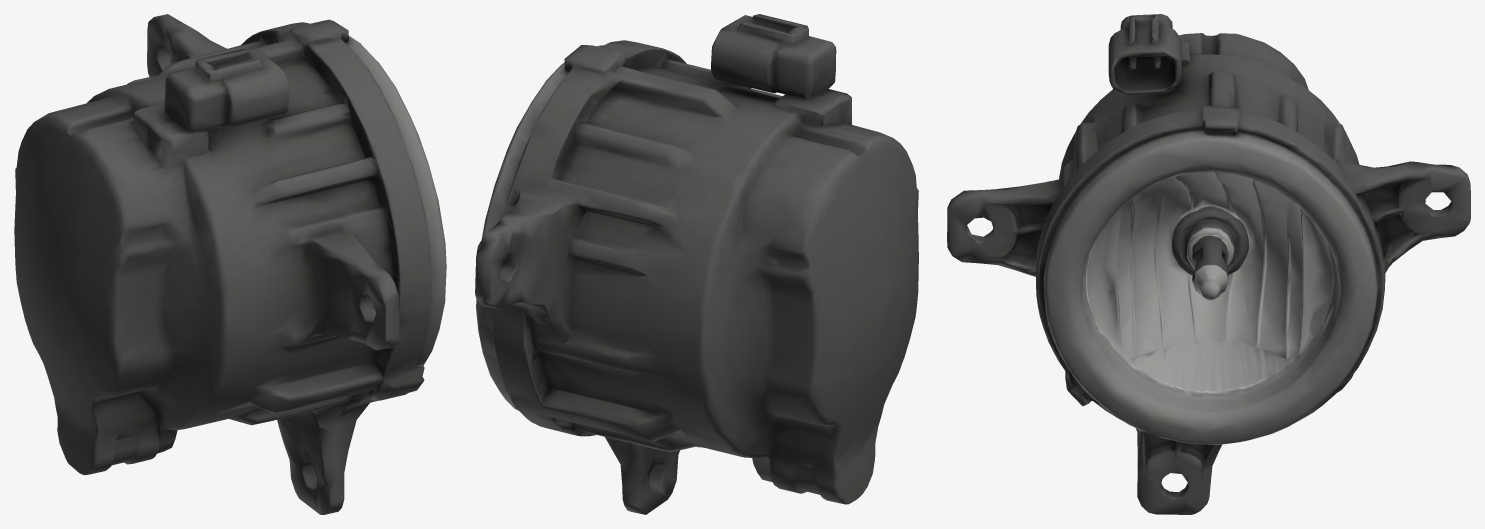
The model's file is front-exterior-lamp.glb.
The picture shows the model from 3 angles, left to right: view 1: azimuth 30°, elevation 25°; view 2: azimuth 150°, elevation 25°; view 3: azimuth 270°, elevation 25°; orthographic projection. The views are drawn at different scales.
Visible parts, largest first — view 1: tripo_node_d9b74020-1b78-43c3-8d73-f1dcdd4ba1d8; view 2: tripo_node_d9b74020-1b78-43c3-8d73-f1dcdd4ba1d8; view 3: tripo_node_d9b74020-1b78-43c3-8d73-f1dcdd4ba1d8.
Part boxes in pixels (<box>): tripo_node_d9b74020-1b78-43c3-8d73-f1dcdd4ba1d8: <box>14,14,446,514</box>; tripo_node_d9b74020-1b78-43c3-8d73-f1dcdd4ba1d8: <box>475,14,918,514</box>; tripo_node_d9b74020-1b78-43c3-8d73-f1dcdd4ba1d8: <box>947,14,1470,514</box>.
Size of the model in its own units: 0.6267 by 0.9271 by 1.
1 material, 1 textured.
